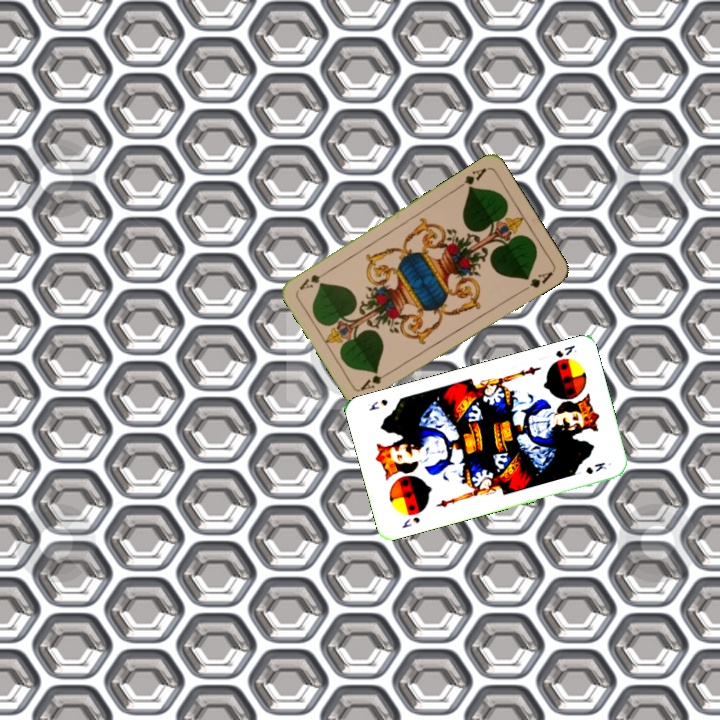GA: (453, 164, 489, 192), (356, 367, 394, 393)
SK: (552, 341, 579, 360), (398, 513, 422, 531)
